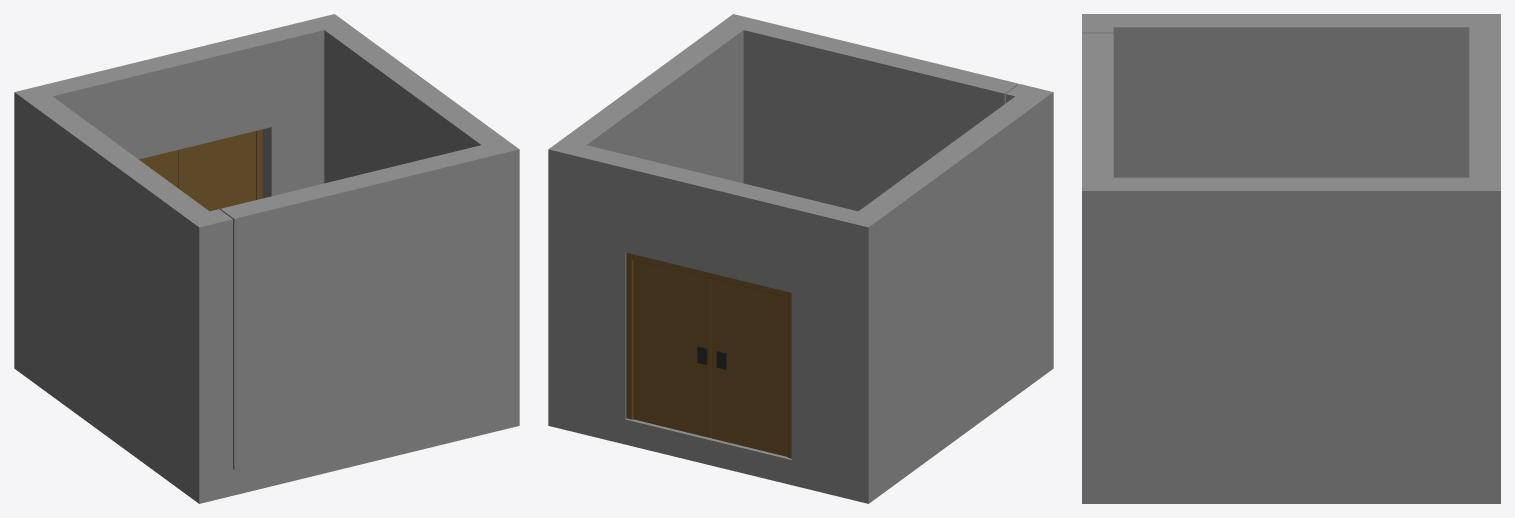
Rendered from MSH_Room_DoubleDoor_Front_Safe_01.fbx.
3 views of the same model, side by side, from view 1: azimuth 30°, elevation 25°; view 2: azimuth 150°, elevation 25°; view 3: azimuth 270°, elevation 25° (orthographic). The views are drawn at different scales.
Parts seen in each view (by area): view 1: MSH_Room_DoubleDoor_Front_Safe_01, MSH_Door_Double_L003, MSH_Door_Double_R003; view 2: MSH_Room_DoubleDoor_Front_Safe_01, MSH_Door_Double_L003, MSH_Door_Double_R003, MSH_DoorFrame_Double003; view 3: MSH_Room_DoubleDoor_Front_Safe_01.
Boxes of the visible parts, box(x1,y1,x2,y2) form: MSH_Room_DoubleDoor_Front_Safe_01: box(14, 14, 519, 503); MSH_Door_Double_L003: box(178, 131, 255, 211); MSH_Door_Double_R003: box(139, 150, 177, 187); MSH_Room_DoubleDoor_Front_Safe_01: box(548, 14, 1053, 503); MSH_Door_Double_L003: box(633, 260, 711, 437); MSH_Door_Double_R003: box(711, 279, 787, 456); MSH_DoorFrame_Double003: box(626, 252, 791, 458); MSH_Room_DoubleDoor_Front_Safe_01: box(1082, 14, 1500, 503).
Size of the model in its own units: 157 by 130 by 157.
